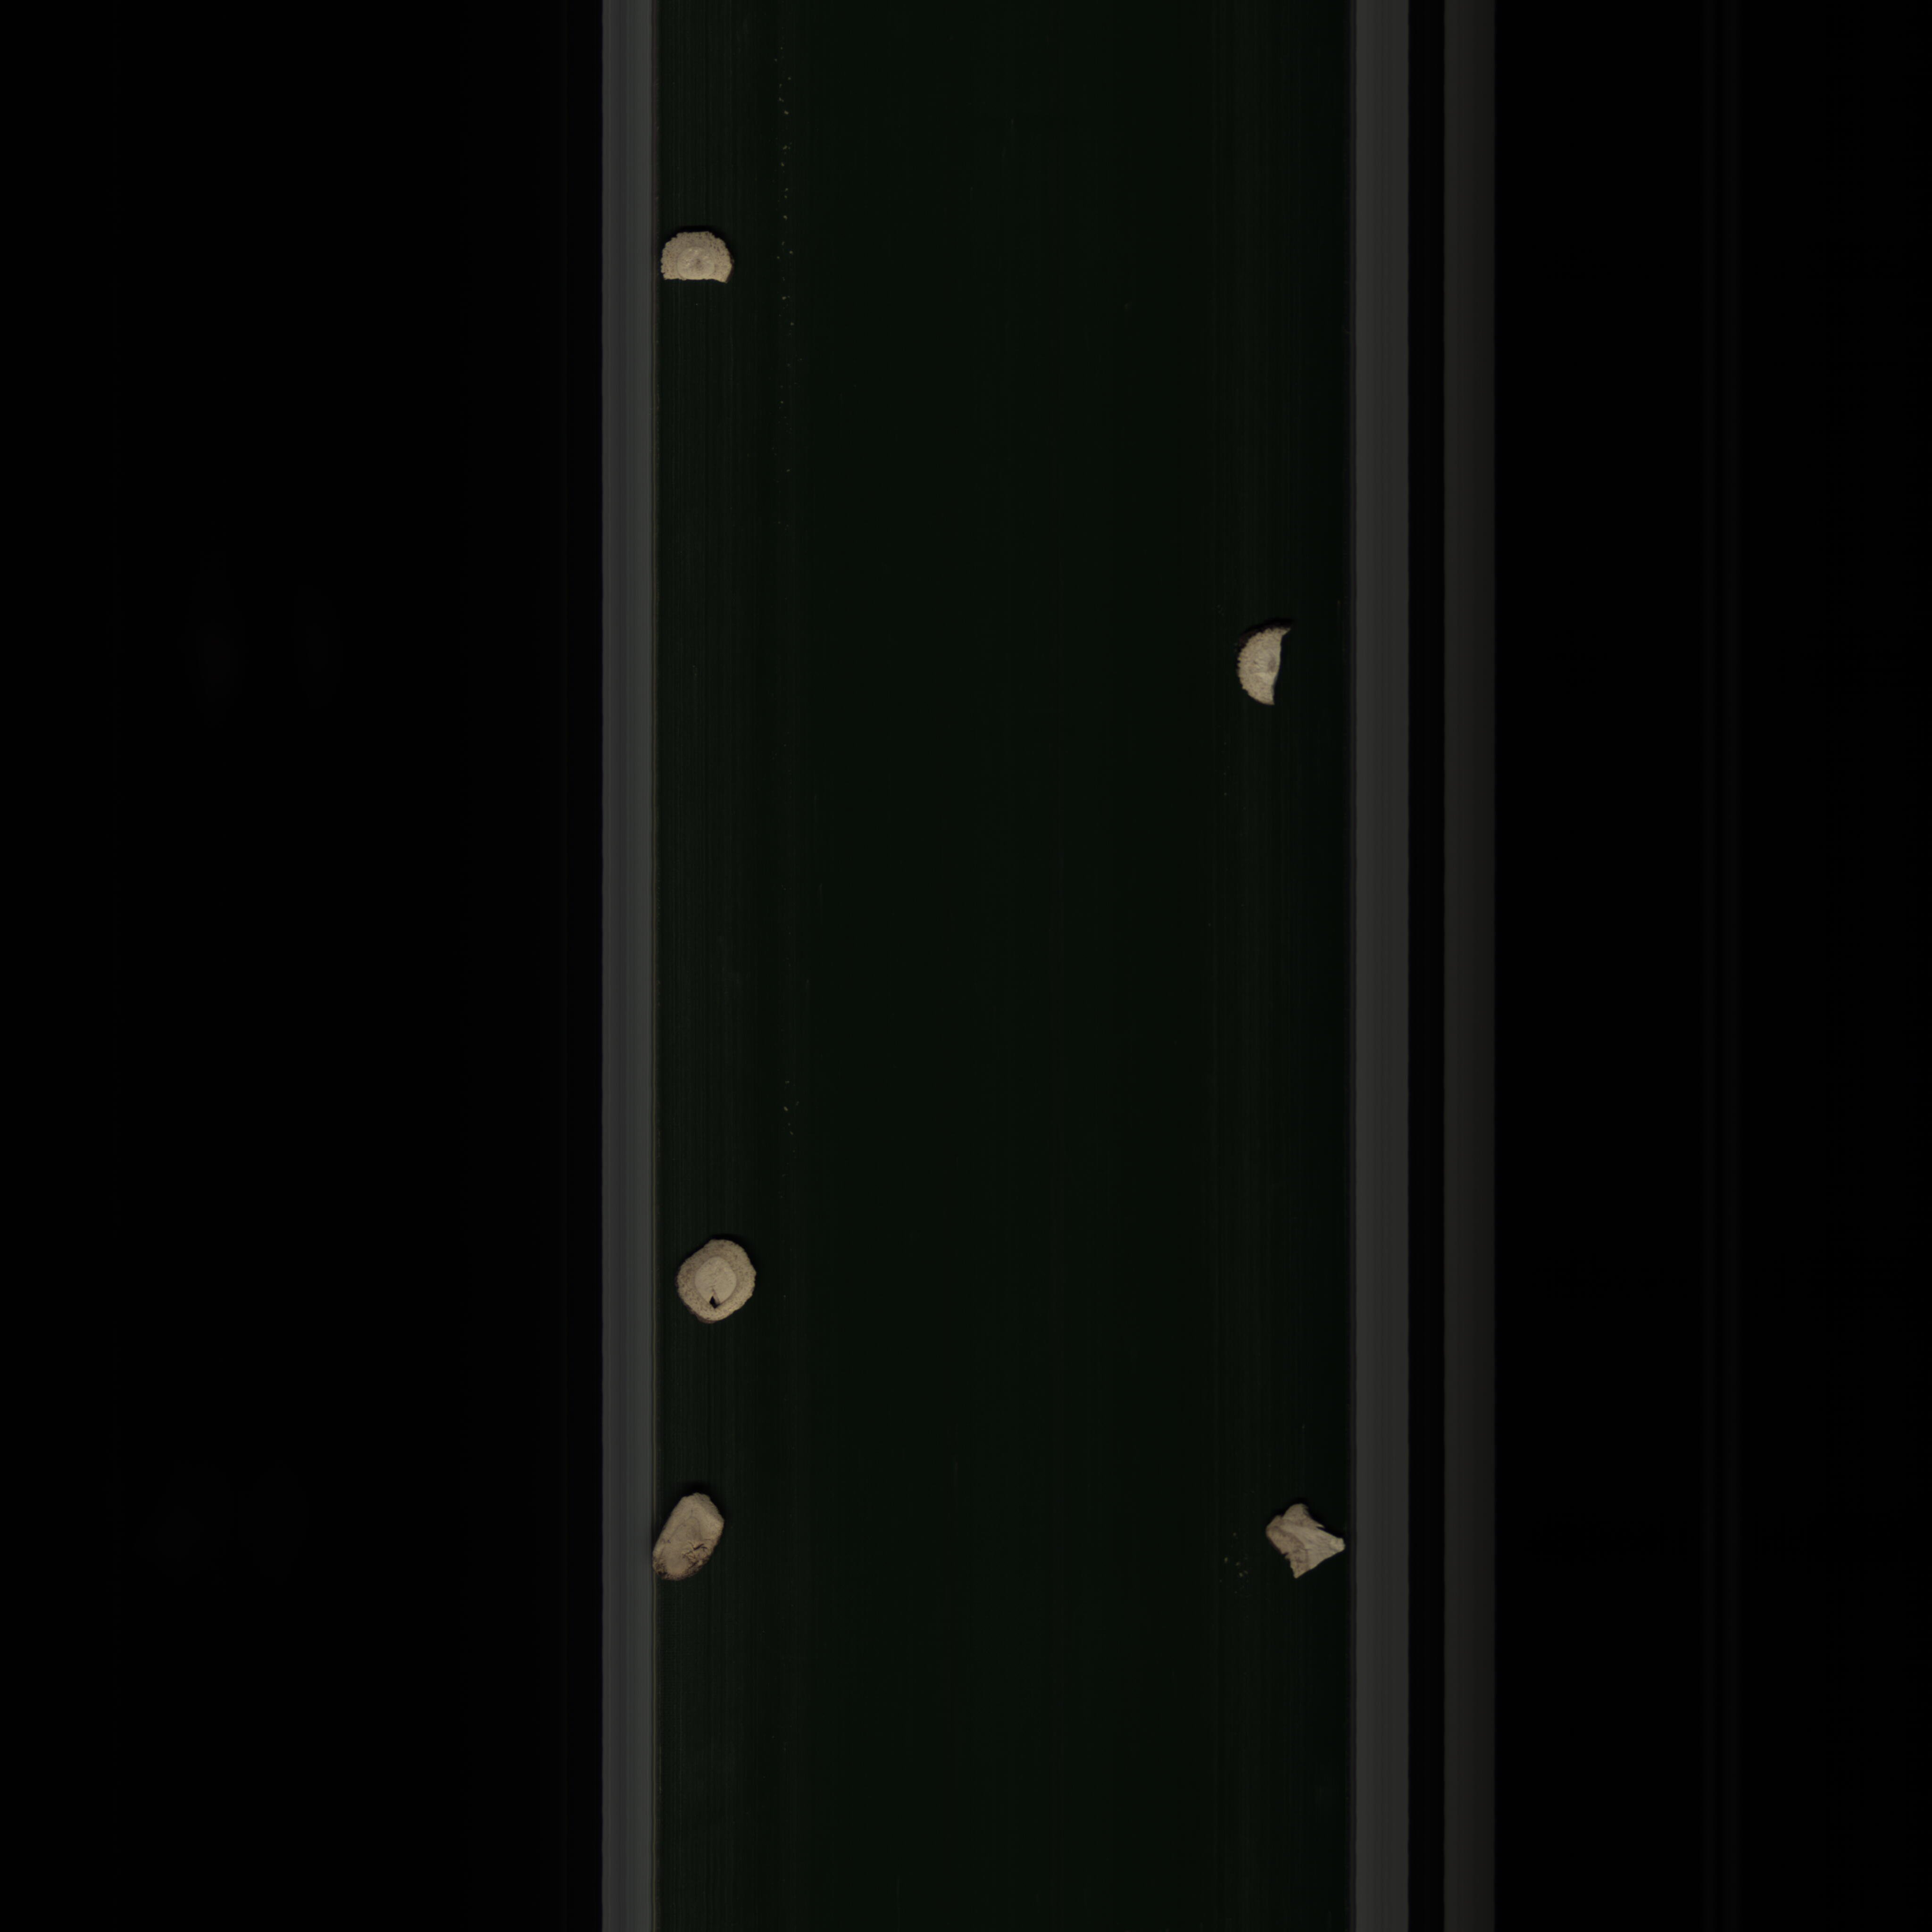debris: (1214, 617, 1304, 725), (1256, 1502, 1350, 1585), (648, 230, 745, 297)
hole: (667, 1217, 773, 1341)
moldy: (640, 1479, 741, 1608)
